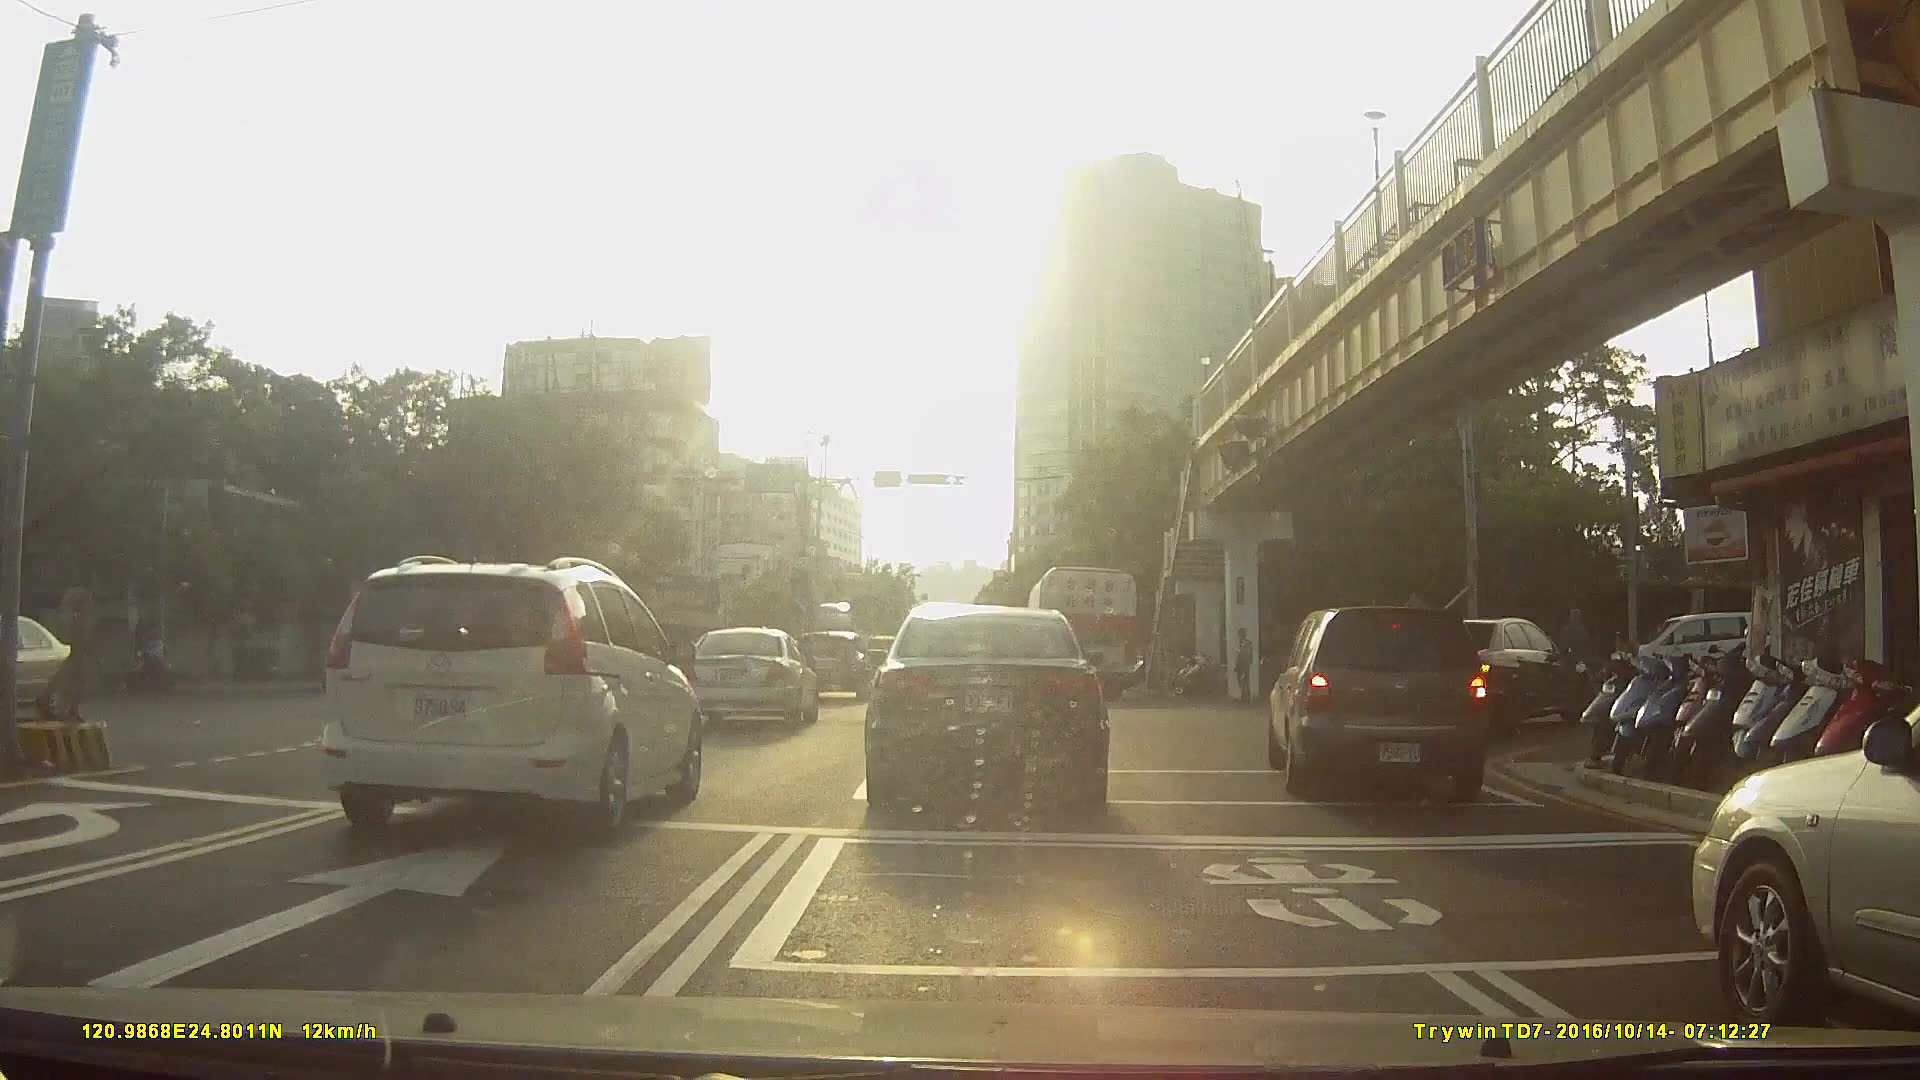pedestrian: (1232, 627, 1261, 704)
vehicle: (318, 556, 704, 844), (1701, 718, 1920, 1030), (867, 594, 1113, 818), (1259, 600, 1503, 807), (1418, 616, 1620, 738), (1027, 563, 1140, 701), (686, 626, 820, 734), (1, 615, 88, 724), (795, 628, 874, 702)
